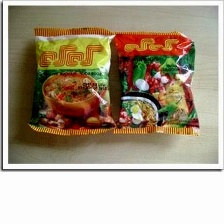snack: (22, 21, 122, 141), (107, 24, 205, 140)
